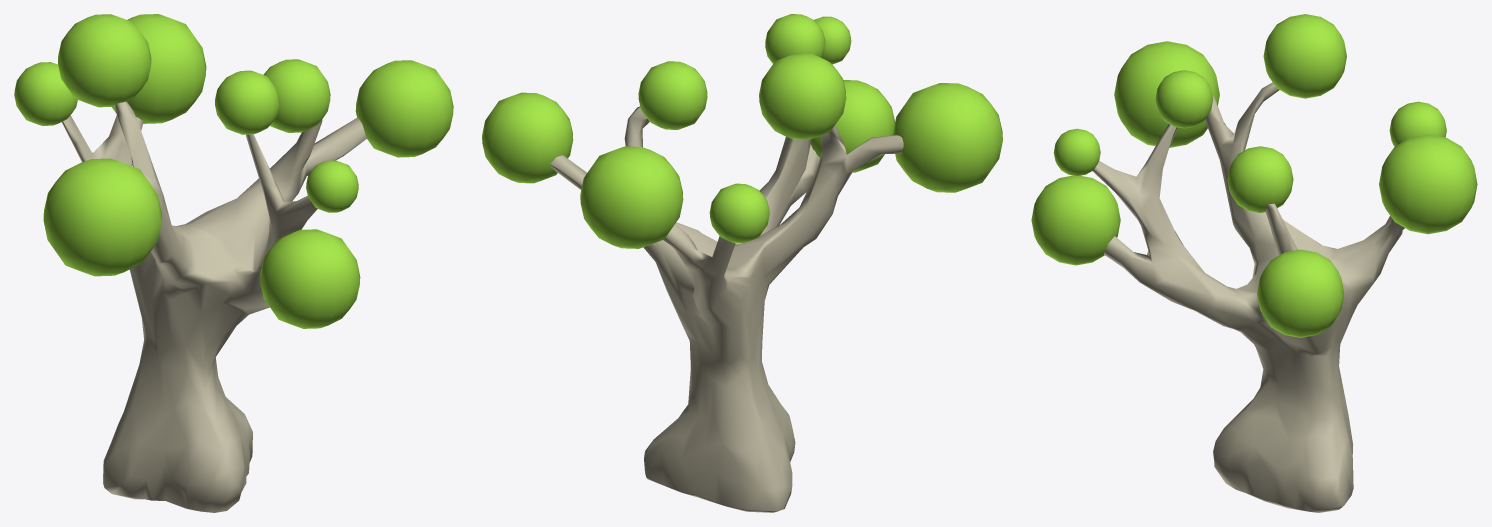
The model's file is Tree2.fbx.
The picture shows the model from 3 angles, left to right: view 1: azimuth 30°, elevation 25°; view 2: azimuth 150°, elevation 25°; view 3: azimuth 270°, elevation 25°; orthographic projection. The views are drawn at different scales.
Visible parts, largest first — view 1: Tree; view 2: Tree; view 3: Tree.
Boxes of the visible parts, x1,y1,x2,y2 form: Tree: (14,14,453,512); Tree: (482,14,1002,512); Tree: (1031,14,1477,512).
Size of the model in its own units: 10.34 by 10.18 by 9.46.
